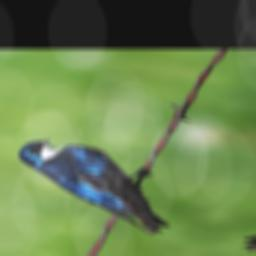Swallow: (0, 134, 211, 237)
